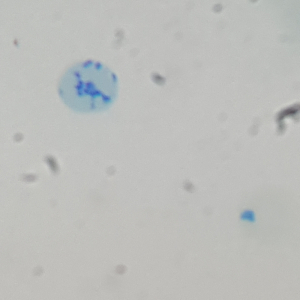aggregate reticulocyte: (56, 58, 120, 115)
